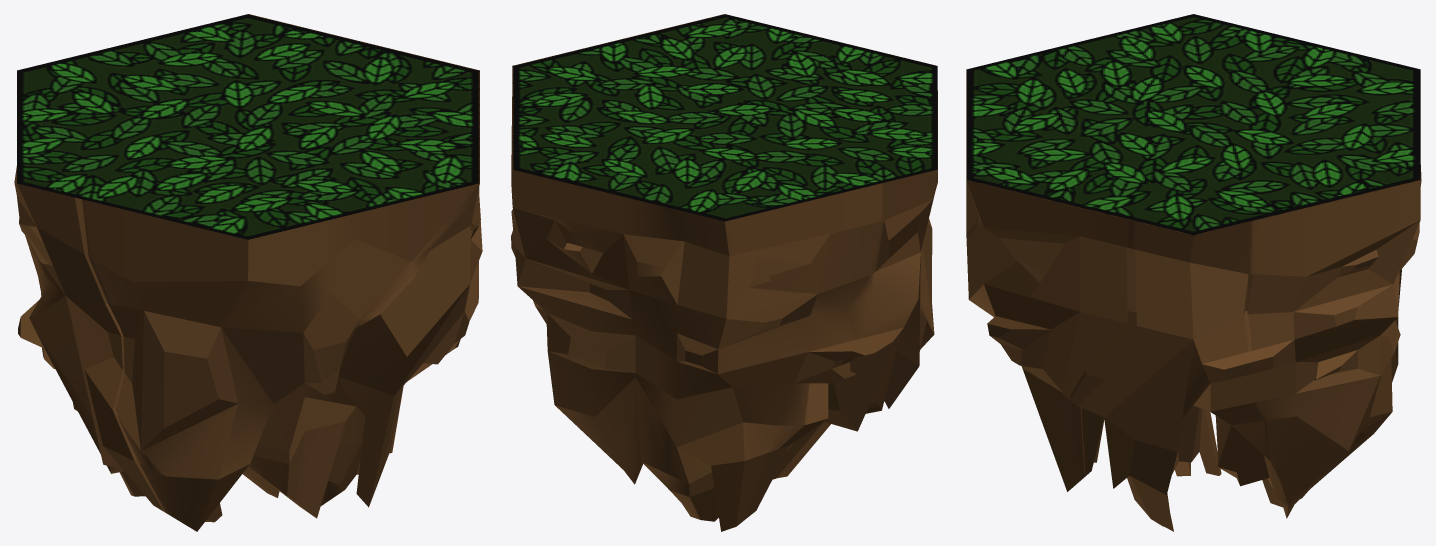
The model's file is TileUnity 1.fbx.
3 renders of one model, left to right at view 1: azimuth 30°, elevation 25°; view 2: azimuth 150°, elevation 25°; view 3: azimuth 270°, elevation 25°, orthographic. The views are drawn at different scales.
Visible parts, largest first — view 1: TileUnity; view 2: TileUnity; view 3: TileUnity.
Boxes of the visible parts, box(x1,y1,x2,y2) form: TileUnity: box(14, 14, 482, 531); TileUnity: box(511, 14, 937, 531); TileUnity: box(966, 14, 1421, 531).
Size of the model in its own units: 139 by 114 by 121.
